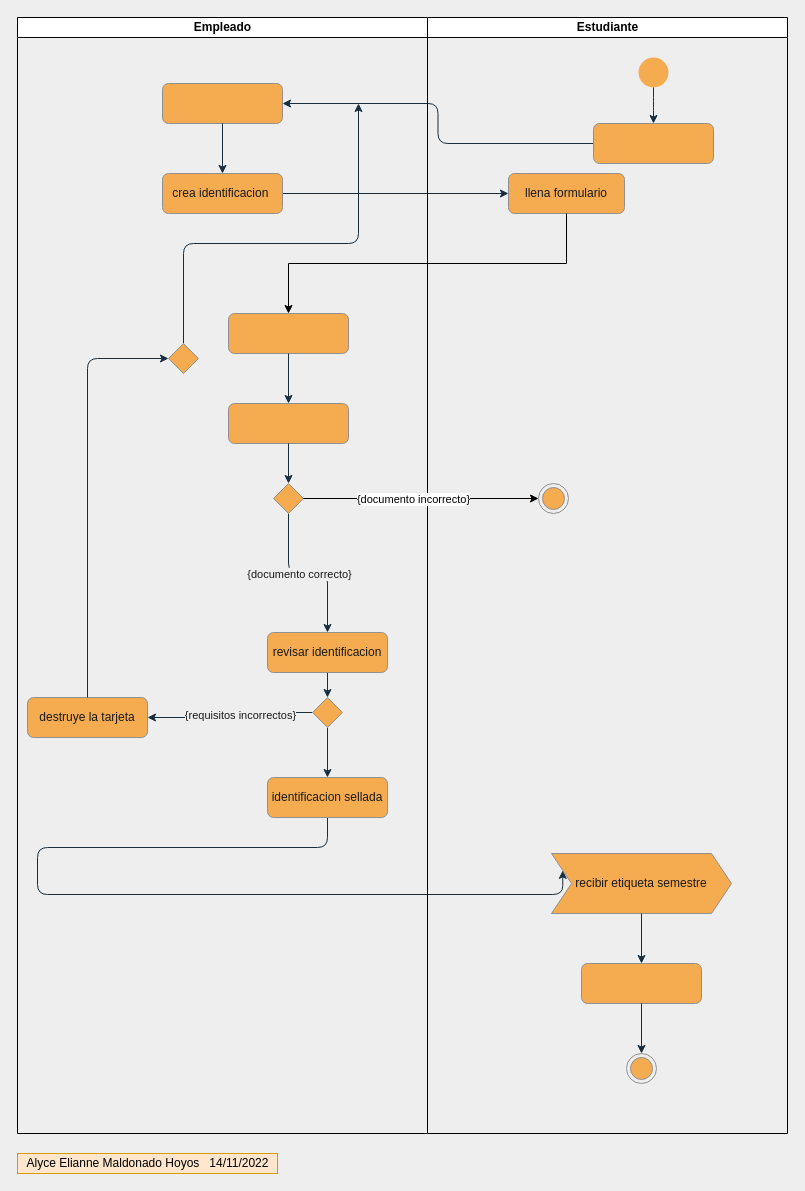
Some shapes in this 805 by 1191 pixel diagram are drawn without their labels. Here are the shapes that lost their labels. From the top down, the centre of each, then its label:
the point at 222,103: Entrega formularios
the point at 653,143: solicita información
the point at 288,333: revisar documentos
the point at 288,423: revisar informacion
the point at 641,983: pegar etiqueta
